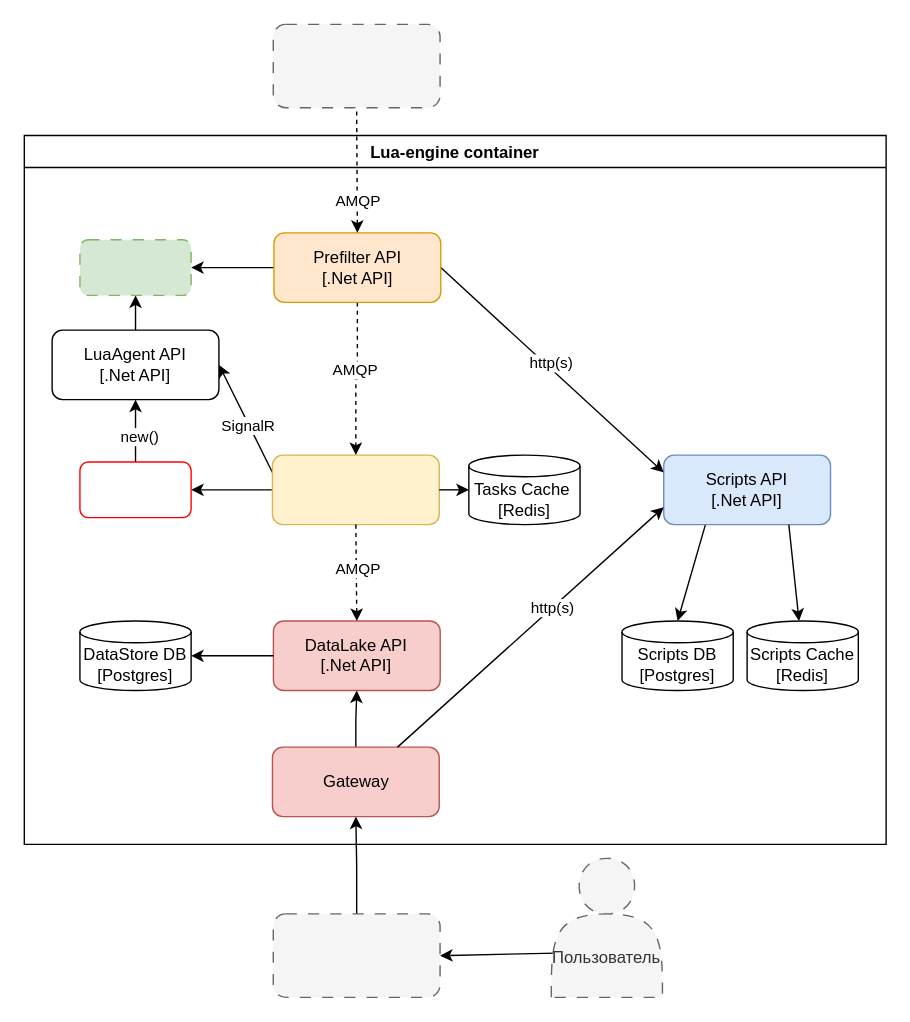
Some shapes in this 910 by 1022 pixel diagram are drawn without their labels. The shapes that lost their labels are listed below. From the top down, each one's centre as x and y in pixels, then its label:
At [356,65]: "Внешняя система".
At [135,266]: "LuaEngine".
At [135,489]: "KBs".
At [355,489]: "Orchestrator API [.Net API]".
At [356,955]: "Frontend".
